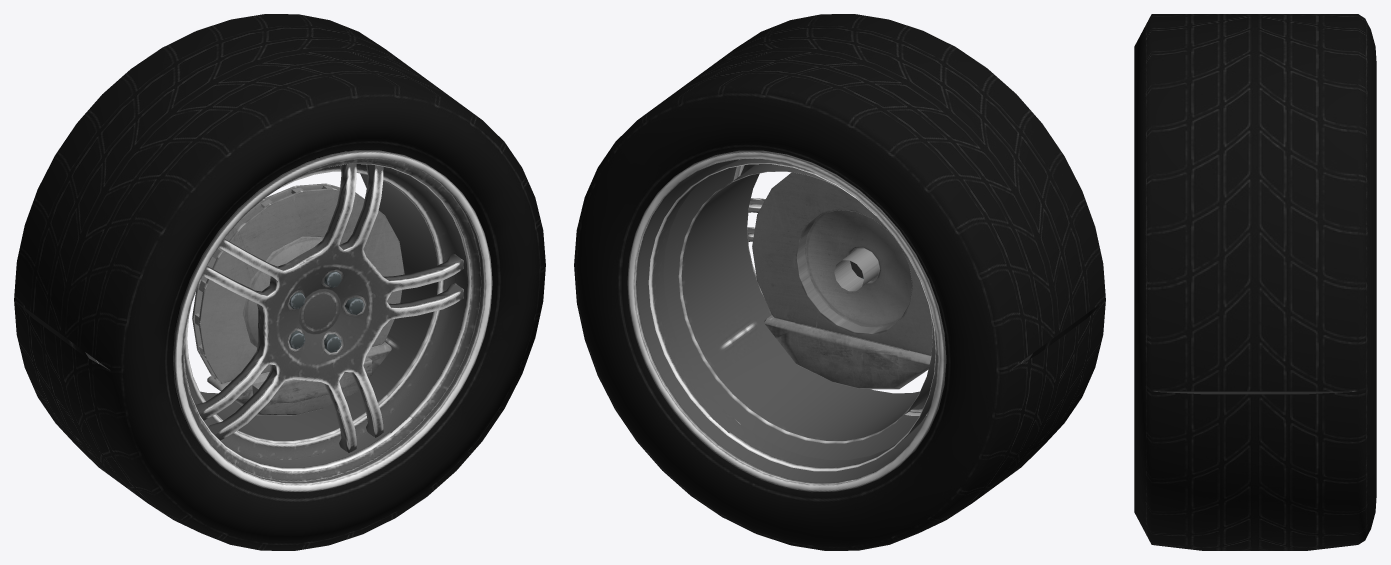
File: LegendDriftCarWheel.glb
3 renders of one model, left to right at view 1: azimuth 30°, elevation 25°; view 2: azimuth 150°, elevation 25°; view 3: azimuth 270°, elevation 25°, orthographic. The views are drawn at different scales.
Parts seen in each view (by area): view 1: Wheel; view 2: Wheel; view 3: Wheel.
Part boxes in pixels (x1,y1,x2,y2): Wheel: (14, 14, 545, 550); Wheel: (574, 14, 1105, 550); Wheel: (1134, 14, 1376, 550).
Size of the model in its own units: 0.7684 by 0.7598 by 0.3427.
Materials: 1 (1 with a texture image).
